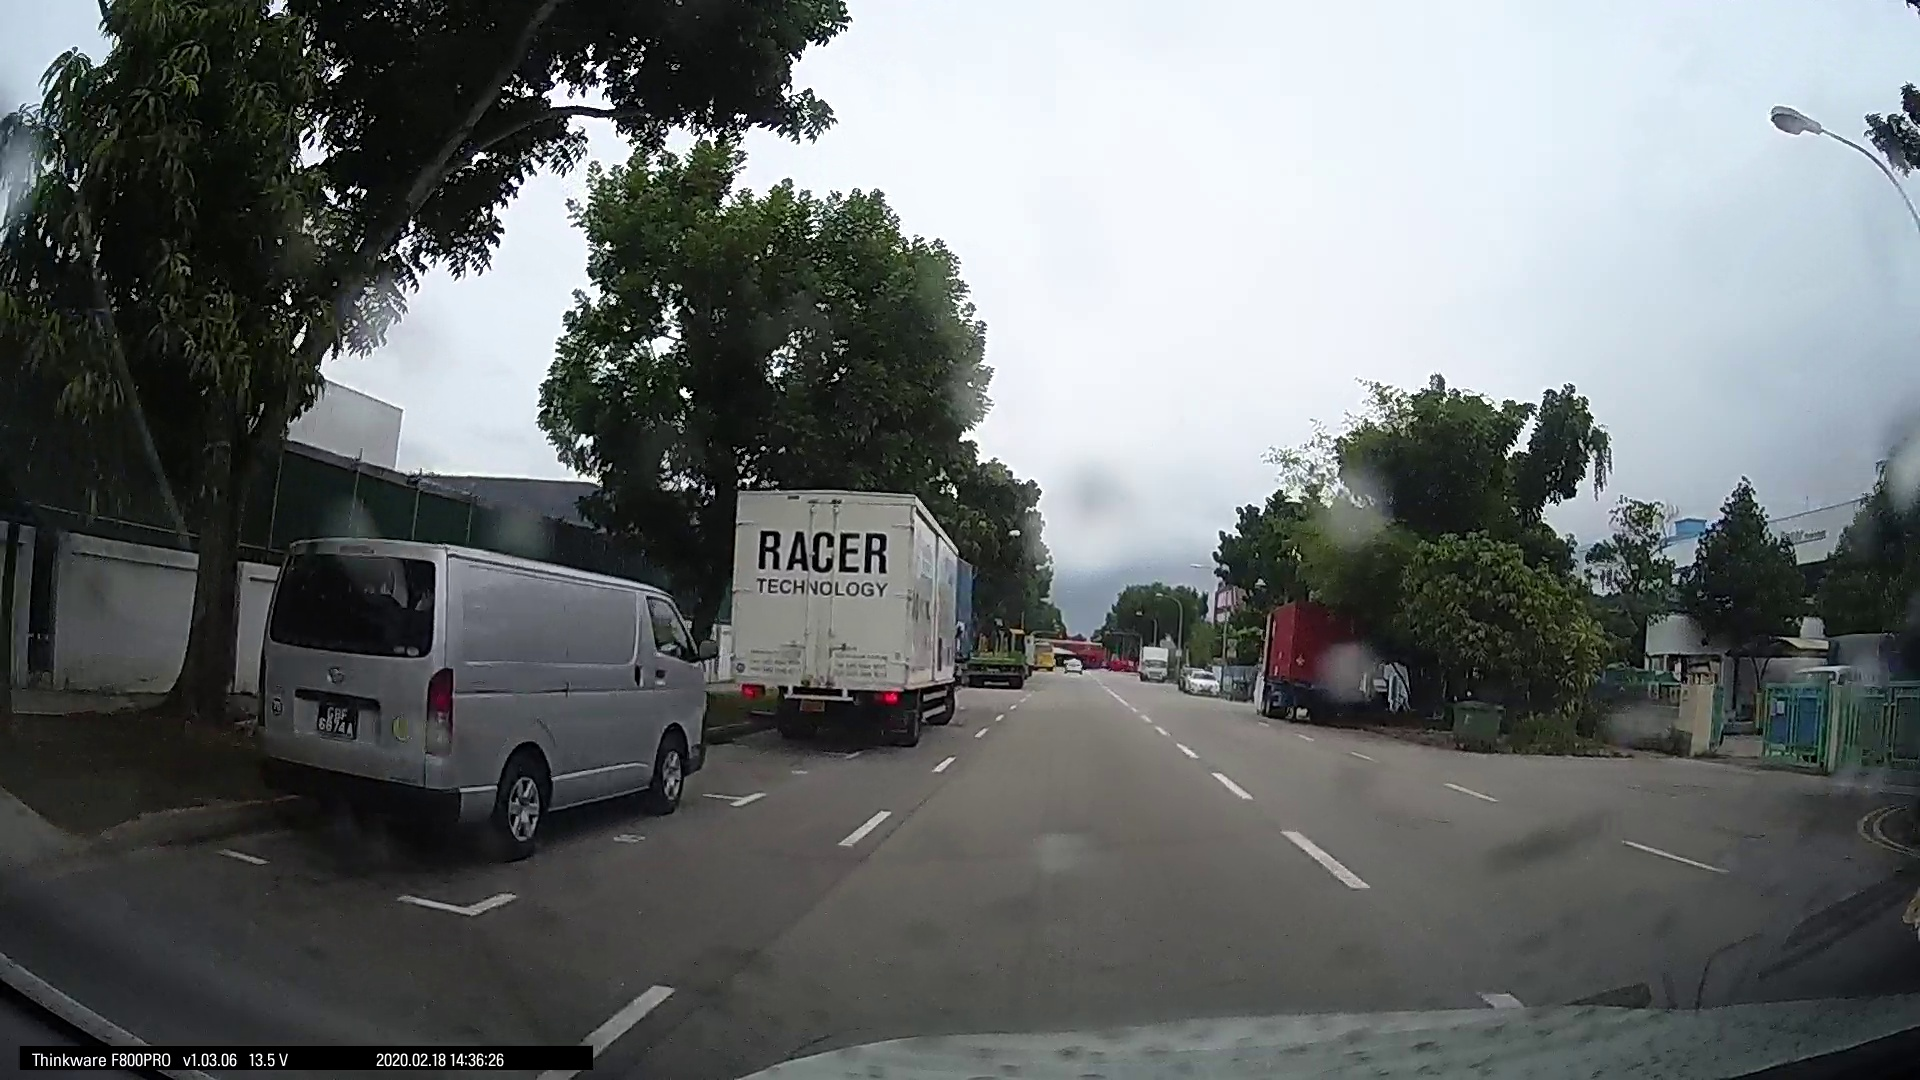Heavy Vehicle: (720, 483, 965, 752), (1251, 604, 1400, 723)
Light Vehicle: (247, 527, 719, 852), (1179, 661, 1217, 695)
